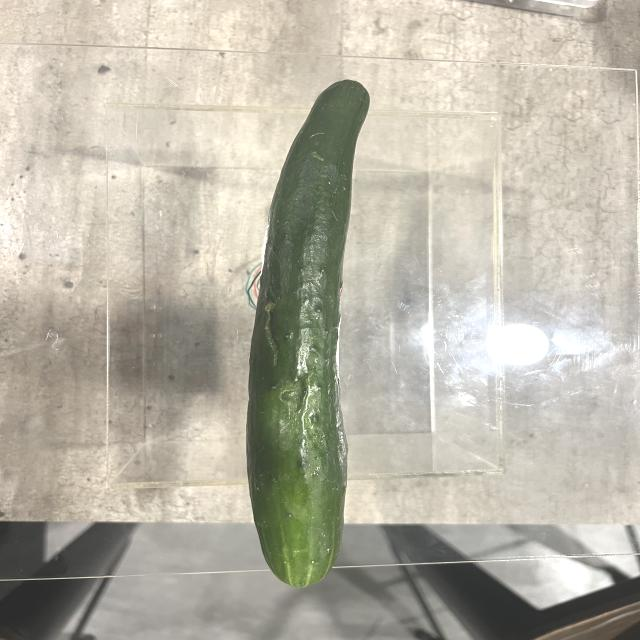cucumber: (244, 77, 377, 591)
